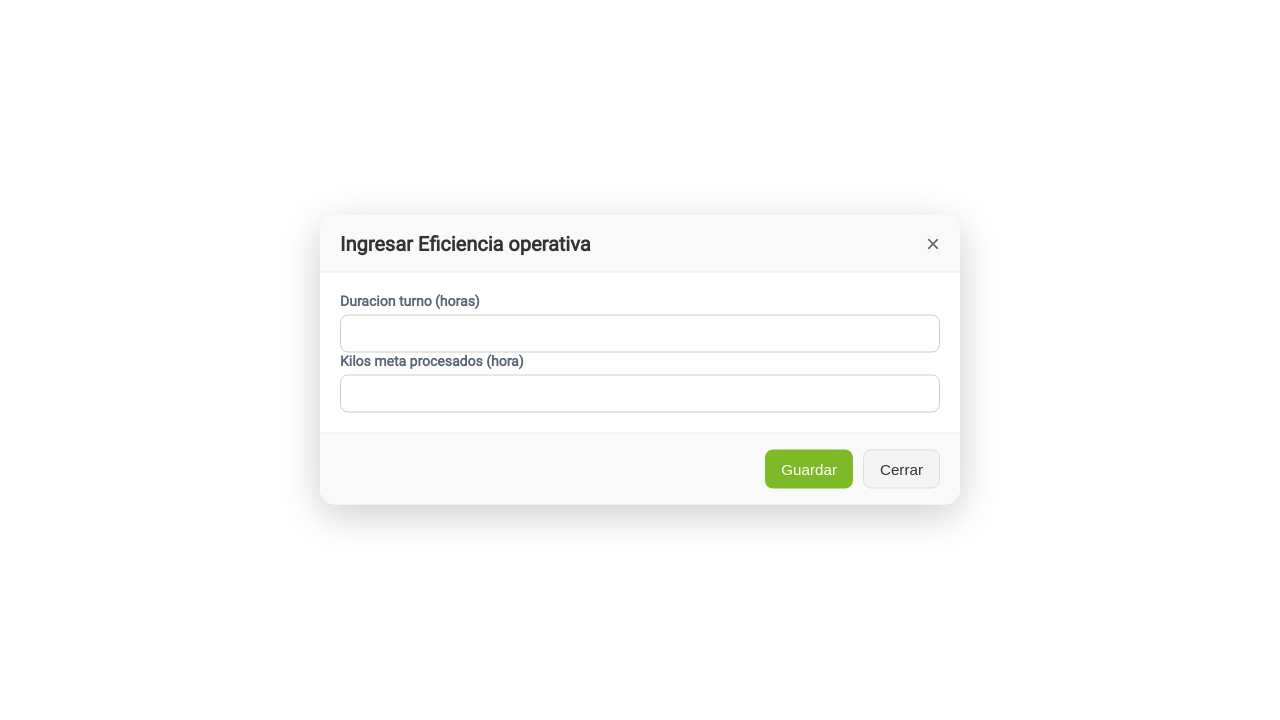
Scenario: Modal ingreso Indicadores Operaciones › debería mostrar error cuando se envía sin duración del turno
# Hacer clic en Guardar
Click the button "Guardar".
click(809, 469)  # box [765,450,853,488]
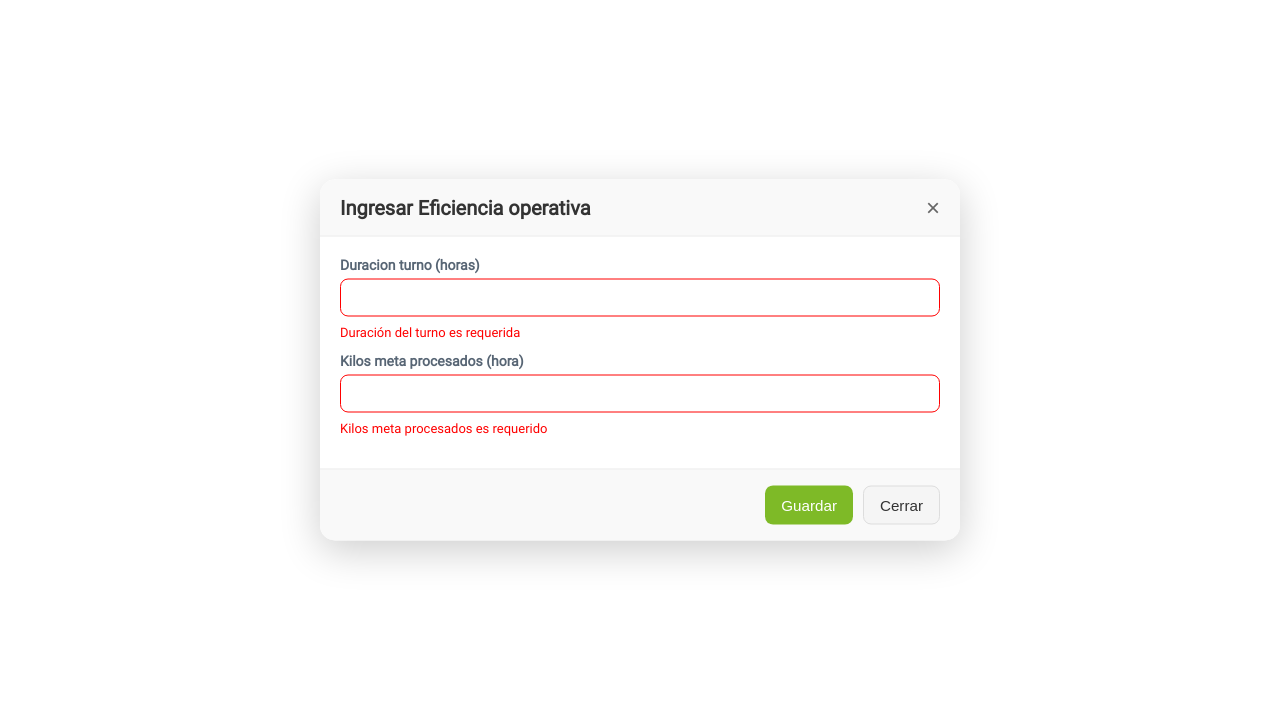
Result: the text "Duración del turno es requerida" is shown at [340,324,520,340]
